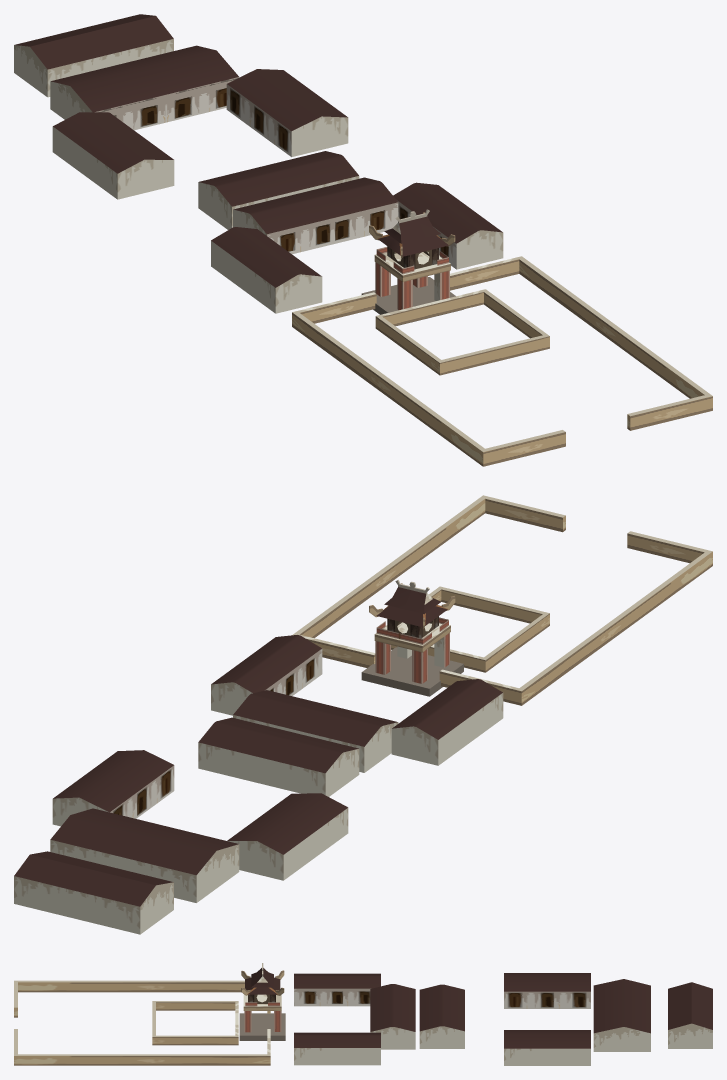
File: SM_Temple_Of_Litterature.fbx
3 renders of one model, top to bottom at view 1: azimuth 30°, elevation 25°; view 2: azimuth 150°, elevation 25°; view 3: azimuth 270°, elevation 25°, orthographic. The views are drawn at different scales.
Visible parts, largest first — view 1: SM_Temple_Of_Litterature_LOD0; view 2: SM_Temple_Of_Litterature_LOD0; view 3: SM_Temple_Of_Litterature_LOD0.
Boxes of the visible parts, box(x1,y1,x2,y2) form: SM_Temple_Of_Litterature_LOD0: box(14, 14, 712, 466); SM_Temple_Of_Litterature_LOD0: box(14, 495, 712, 934); SM_Temple_Of_Litterature_LOD0: box(14, 963, 712, 1065).
Size of what is drawn, in the model's own units: 40.8 by 15.81 by 160.
